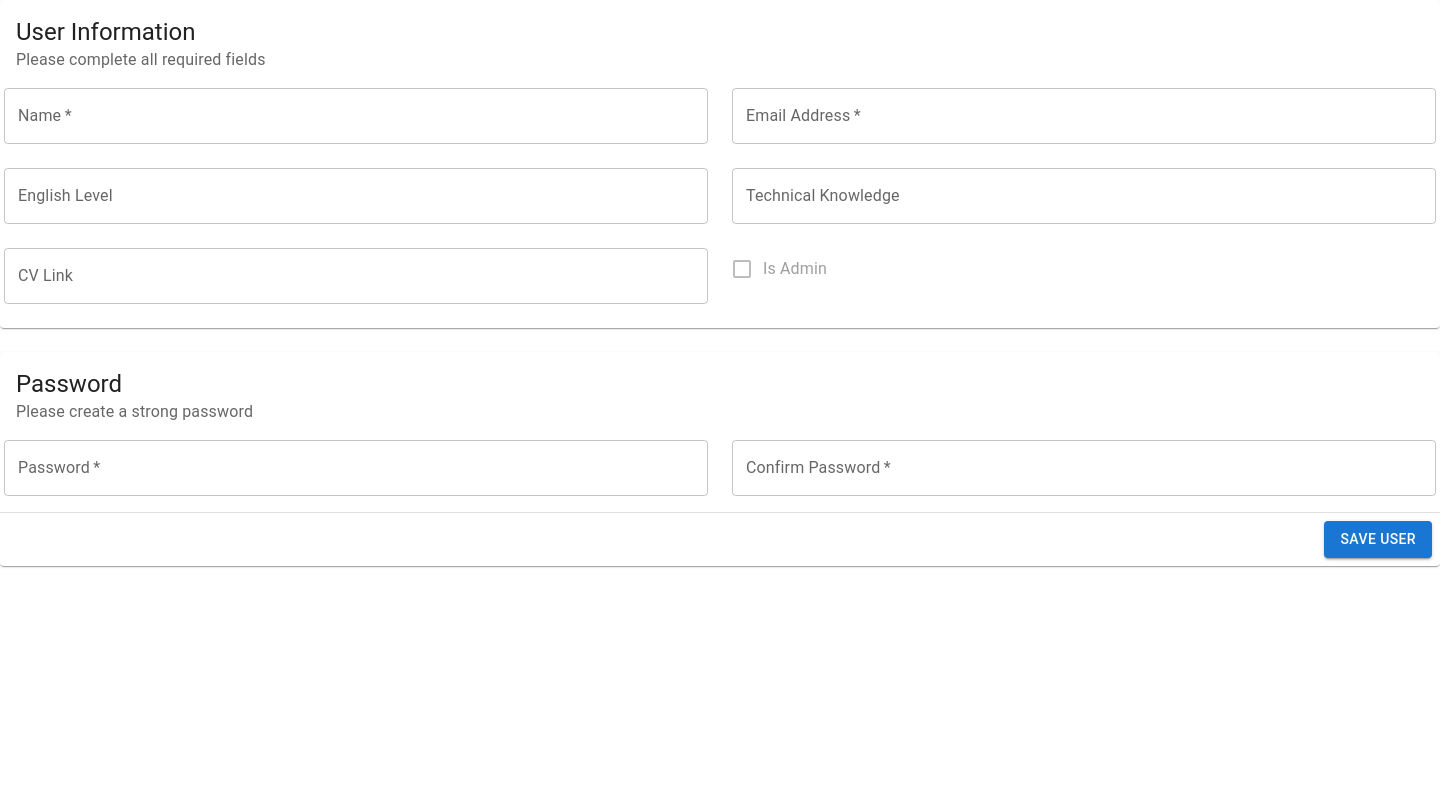
Scenario: AddUserForm › should display 'Provide a valid email format' when email input is invalid
Type "invalid email" into the field labelled "Email Address *". click: (1084, 116)
box: [732, 88, 1436, 144]
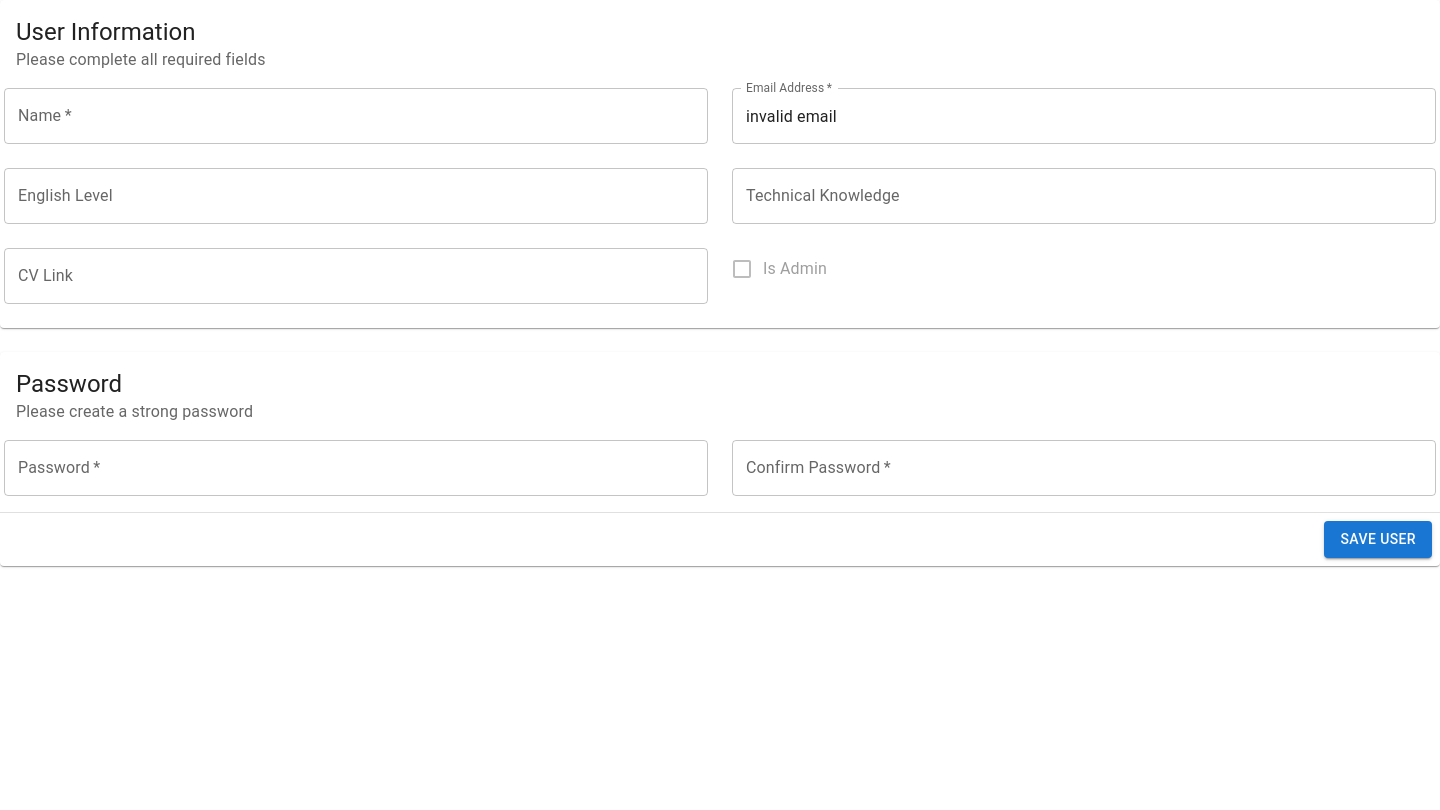
Submit the form from the button, box [1324, 521, 1432, 558]
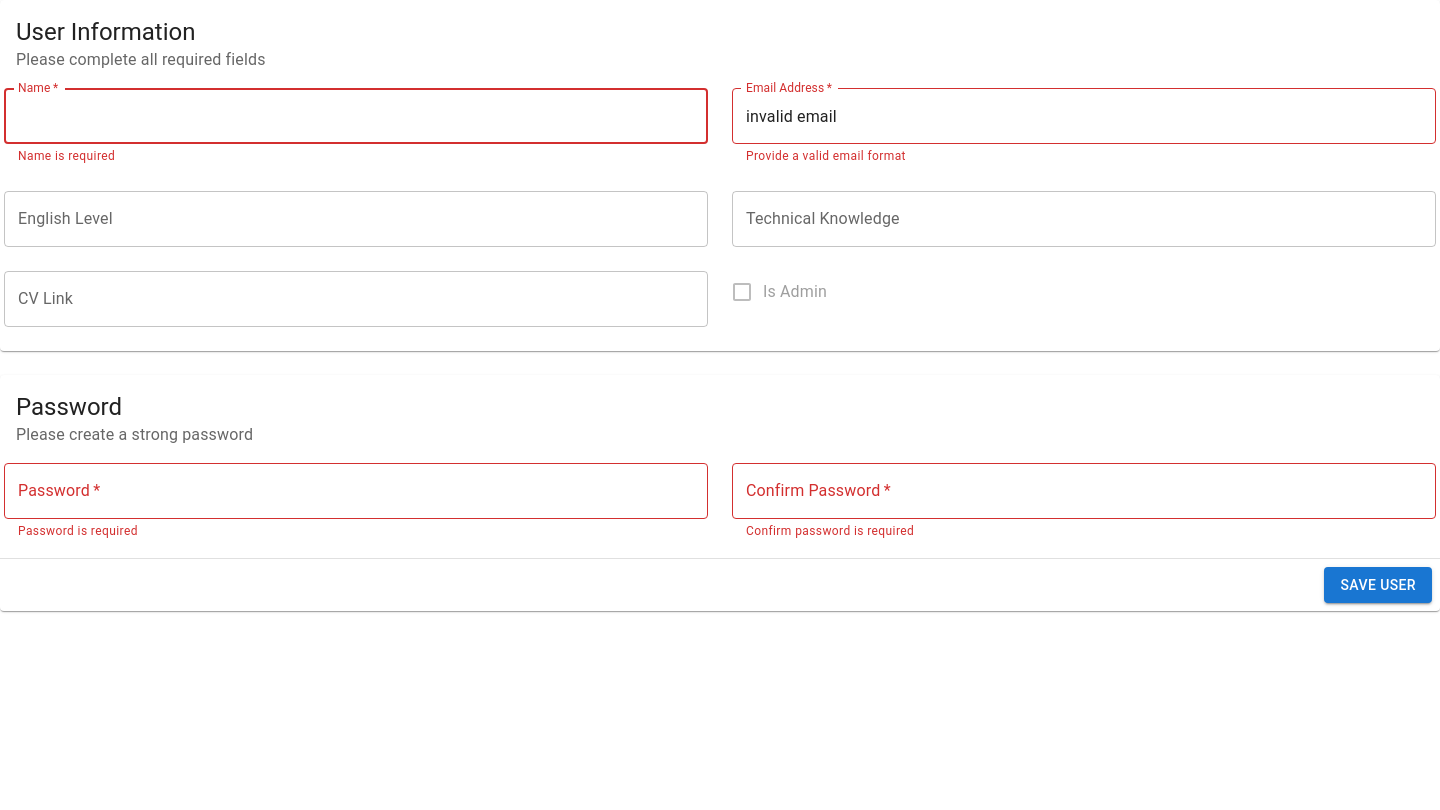
Check: the text "Provide a valid email format" is shown, box [746, 149, 906, 163]
